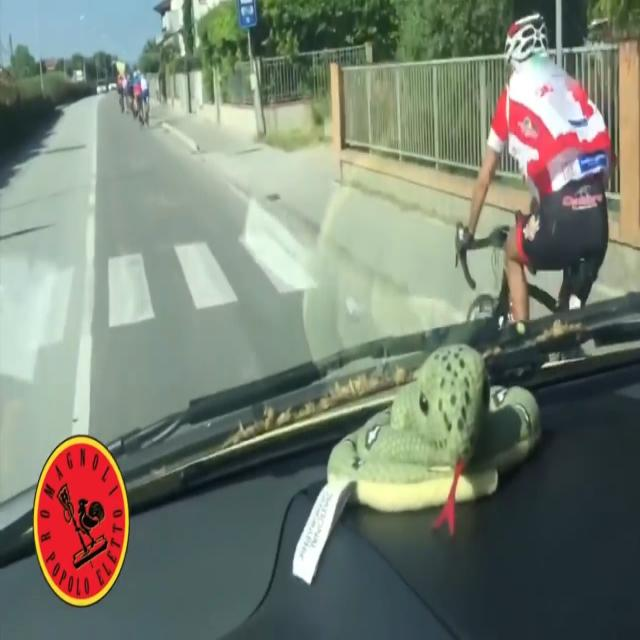Pedestrian crosswalk: (16, 225, 334, 337)
